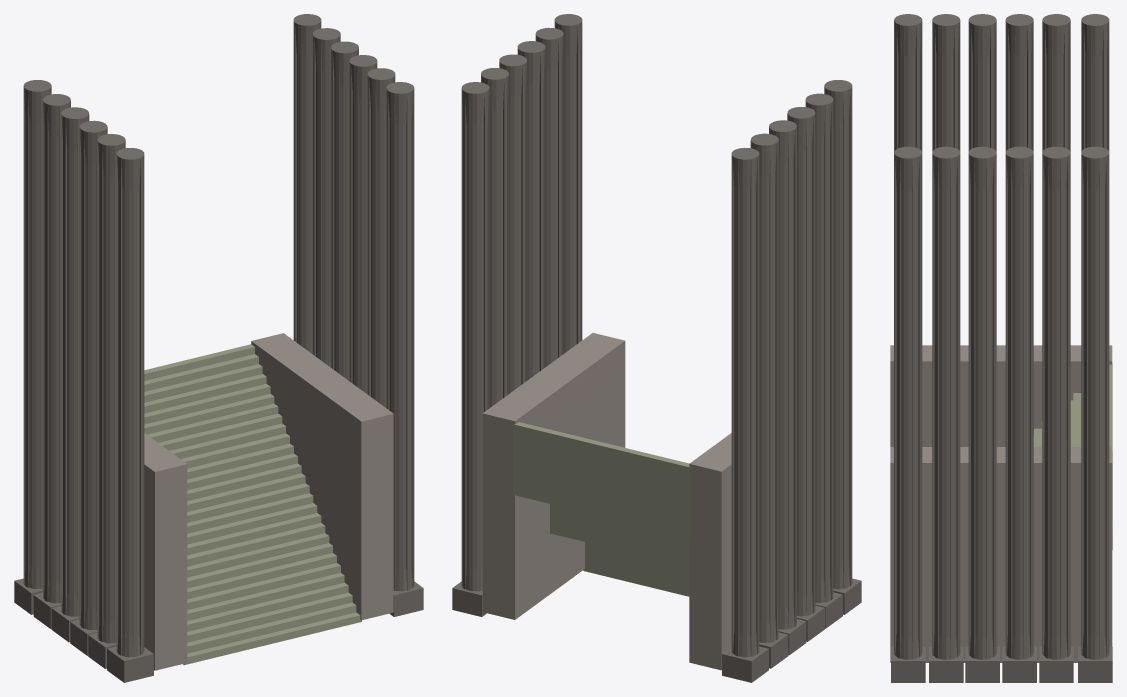
Rendered from exit.fbx.
3 views of the same model, side by side, from view 1: azimuth 30°, elevation 25°; view 2: azimuth 150°, elevation 25°; view 3: azimuth 270°, elevation 25° (orthographic).
Parts seen in each view (by area): view 1: Exit; view 2: Exit; view 3: Exit.
Part boxes in pixels (left/top/right/bottom): Exit: left=14, top=14, right=423, bottom=682; Exit: left=452, top=14, right=861, bottom=682; Exit: left=890, top=14, right=1112, bottom=682.
Size of the model in its own units: 0.2149 by 0.3561 by 0.1371.
